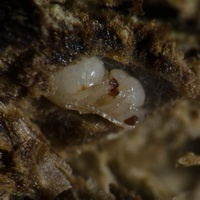insect: (47, 55, 146, 130)
